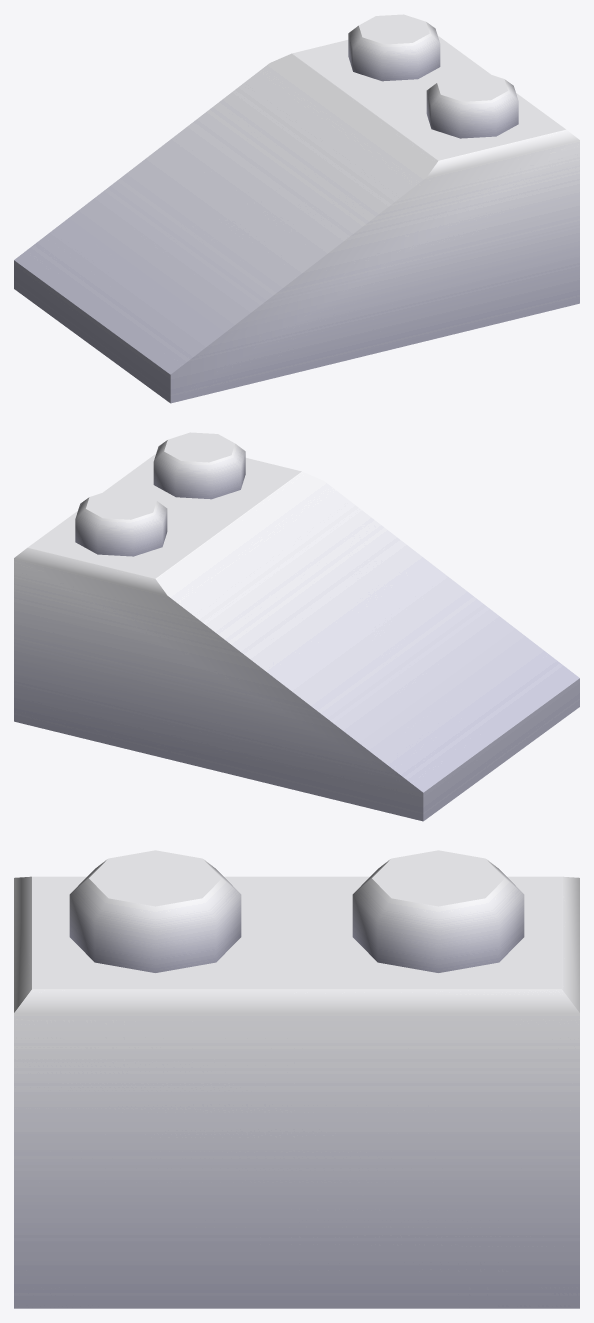
File: round-hq-brick-slope-3x2.glb
3 renders of one model, top to bottom at view 1: azimuth 30°, elevation 25°; view 2: azimuth 150°, elevation 25°; view 3: azimuth 270°, elevation 25°, orthographic. The views are drawn at different scales.
Parts seen in each view (by area): view 1: round-hq-brick-slope-3x2; view 2: round-hq-brick-slope-3x2; view 3: round-hq-brick-slope-3x2.
Boxes of the visible parts, x1,y1,x2,y2 form: round-hq-brick-slope-3x2: (14,14,579,403); round-hq-brick-slope-3x2: (14,432,579,821); round-hq-brick-slope-3x2: (14,850,579,1308).
Bounding box in the file's own units: 1.19 × 0.57 × 0.79.
1 material, 1 textured.
